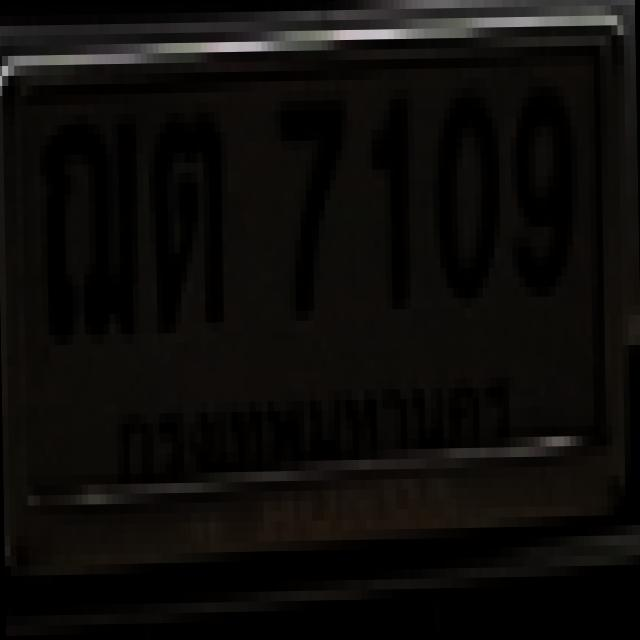license_plate: (0, 14, 640, 593)
